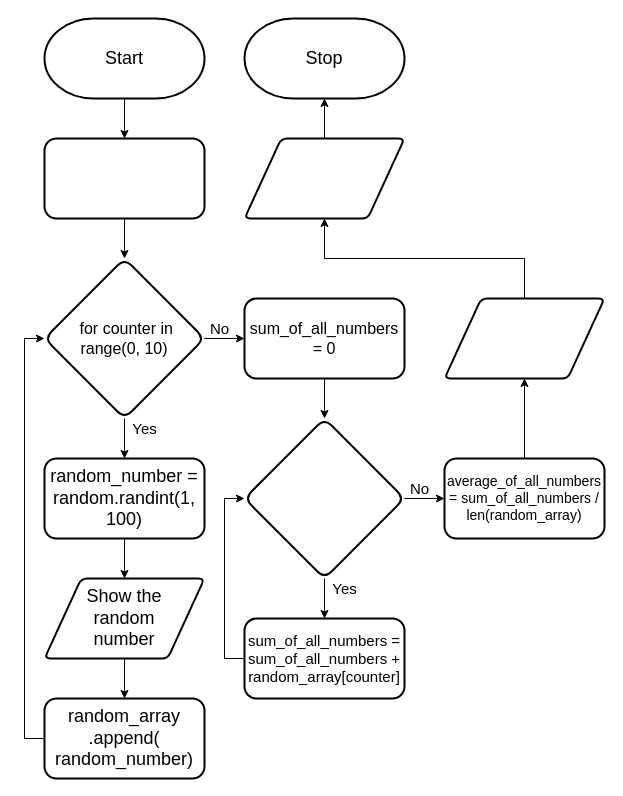
Some shapes in this 623 by 796 pixel diagram are drawn without their labels. The centre of each missing label's shape, as x and y in pixels:
for counter in range(0, len( random_array)): point 324,498
random_array = []: point 124,178
Show the average of all of the random numbers: point 524,338
Show the program as done: point 324,178
